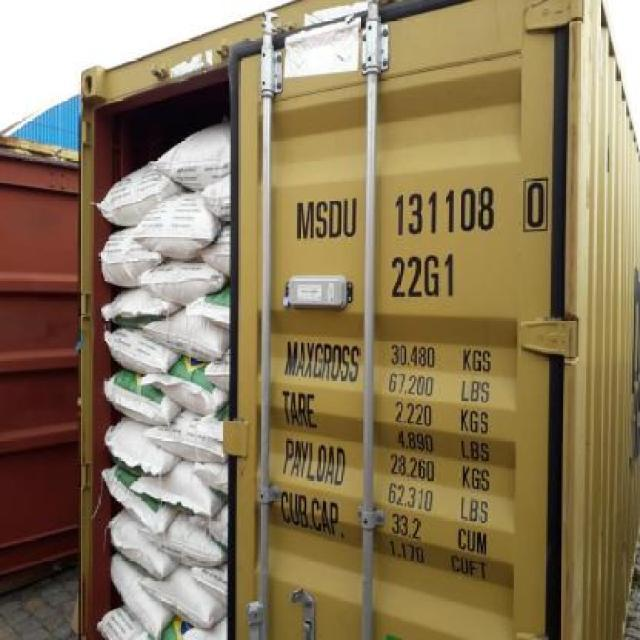ISO: (388, 258, 456, 296)
container_number: (297, 199, 565, 232)
